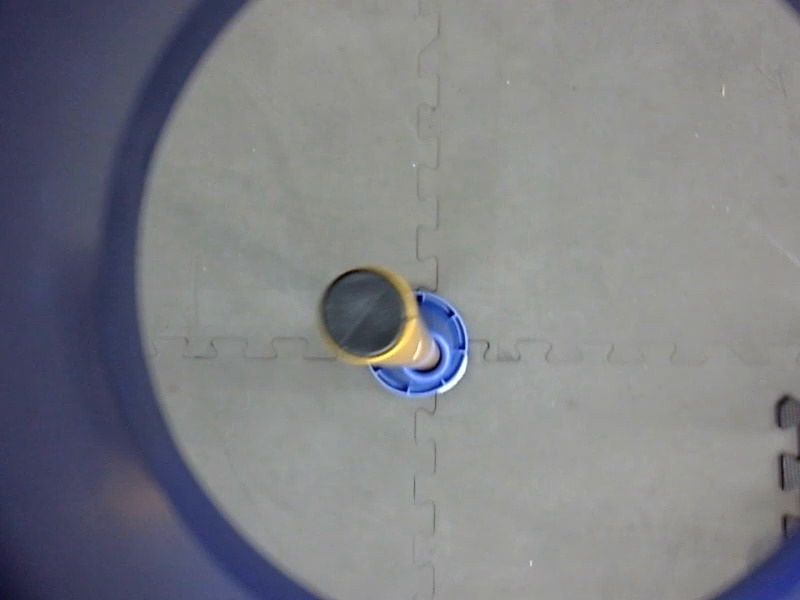tip: (311, 260, 421, 370)
